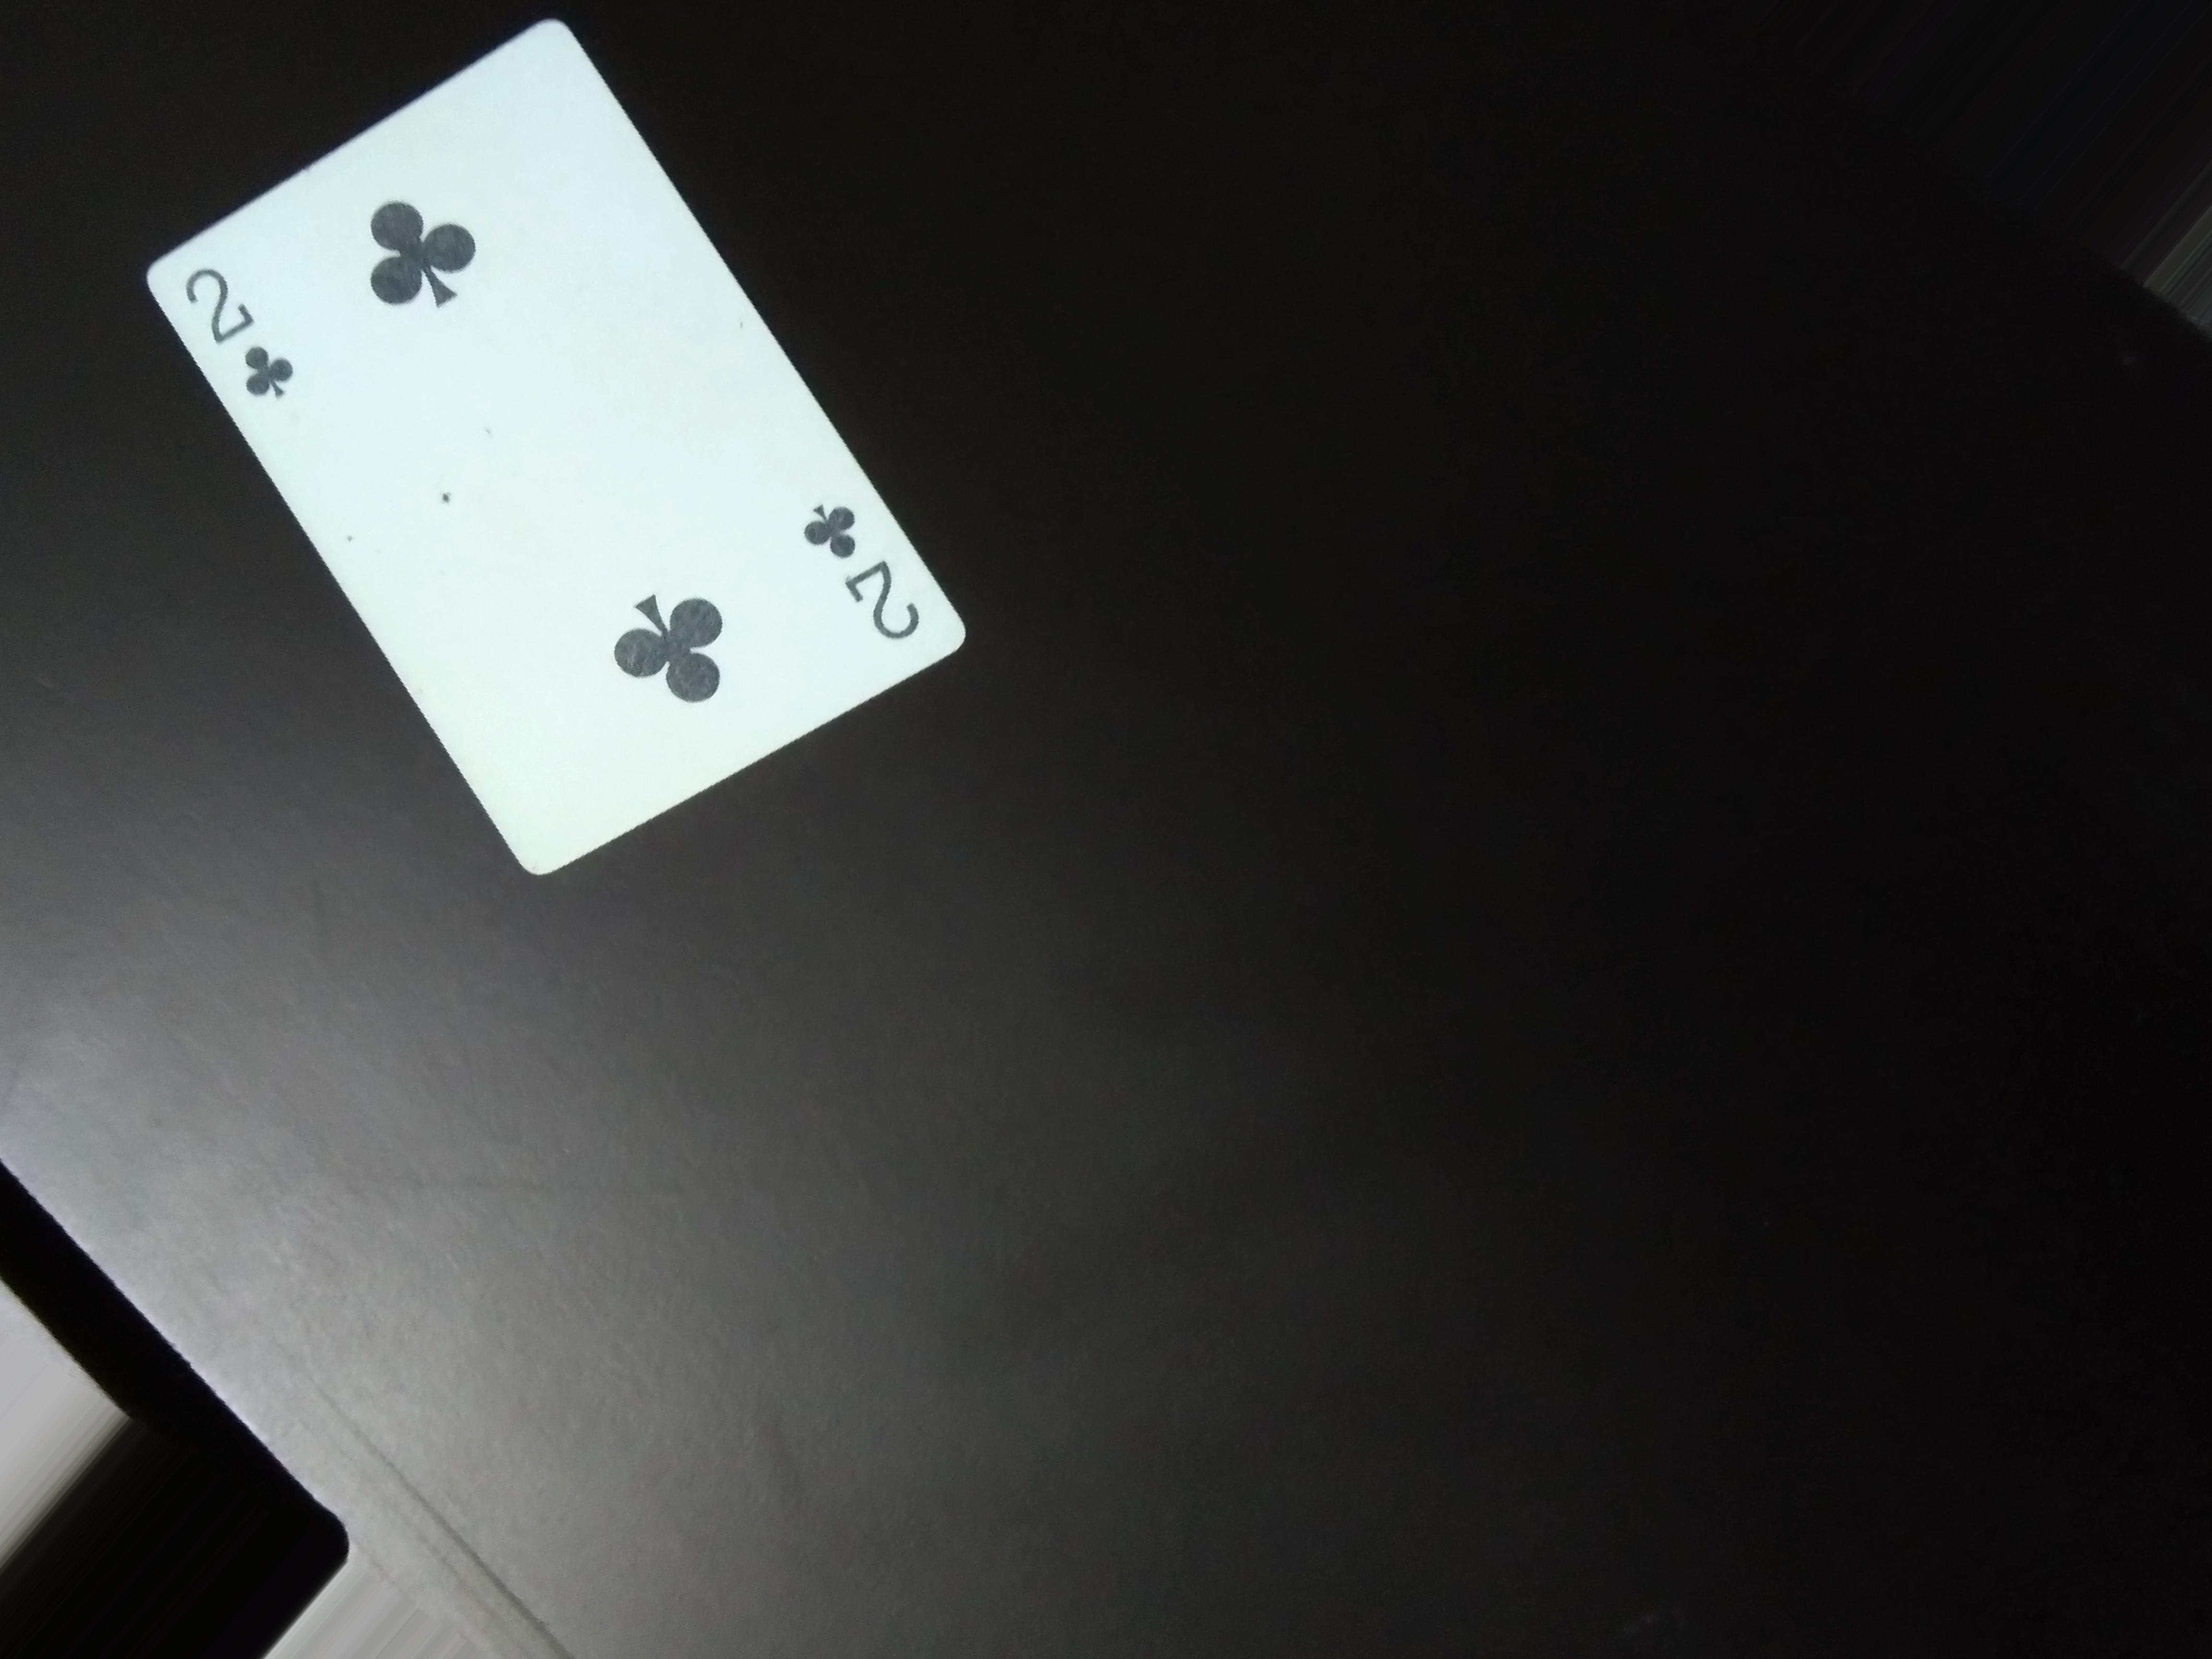2C: (780, 495, 949, 626)
